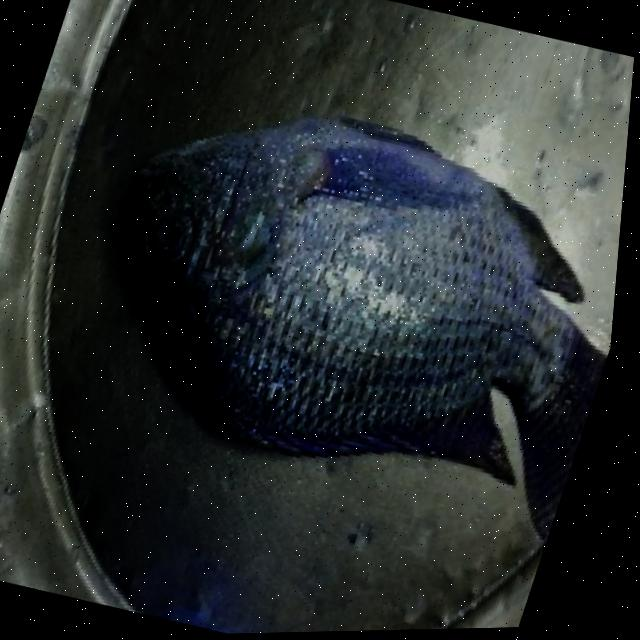Fresh: (53, 33, 637, 559)
